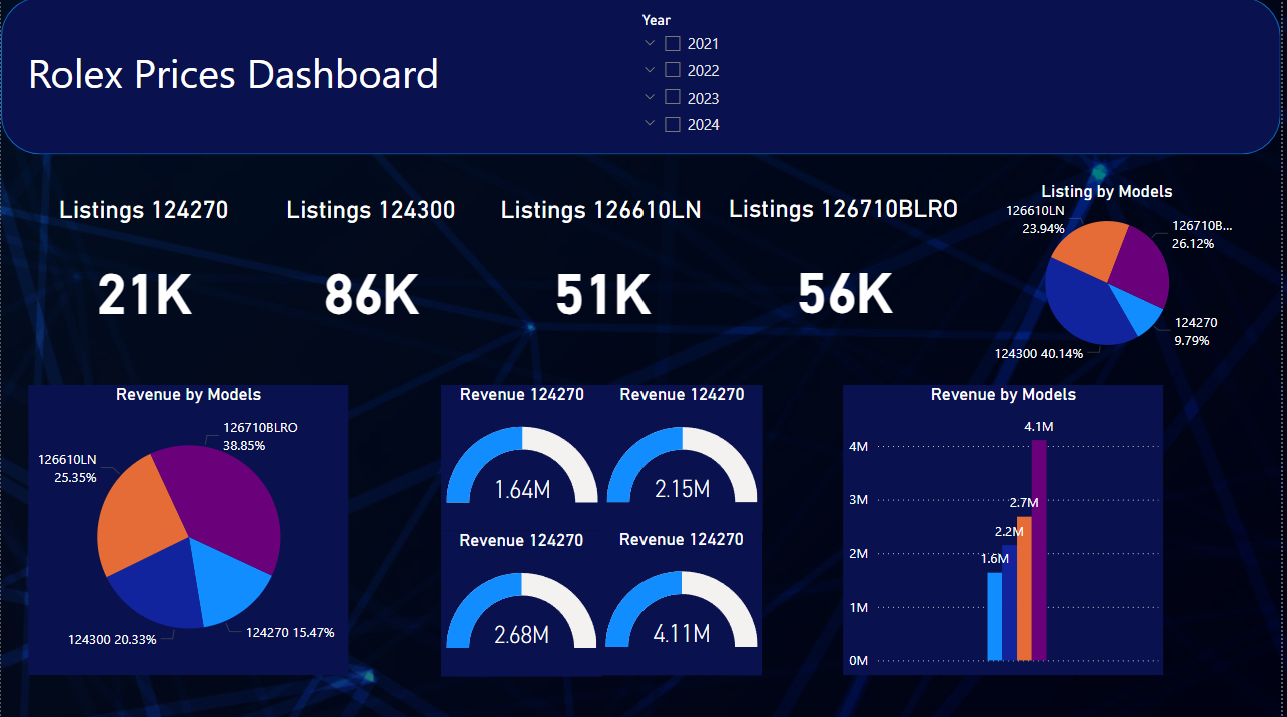

The dashboard page shown, as its layout file describes it:
{"tool":"powerbi","page":{"name":"Dashboard","canvas":[1280,720],"ordinal":0},"visuals":[{"type":"shape","box":[0,0,1279.9,157.7],"z":0},{"type":"slicer","fields":{"Values":["RolexPrices.Date.Variation.Date Hierarchy.Year","RolexPrices.Date.Variation.Date Hierarchy.Quarter","RolexPrices.Date.Variation.Date Hierarchy.Month","RolexPrices.Date.Variation.Date Hierarchy.Day"]},"box":[628.2,9.1,241.1,140.8],"z":1000},{"type":"card","title":"Listings 124270","fields":{"Values":["Sum(RolexPrices.Listings_124270)"]},"box":[27.4,199.4,230.7,160.3],"z":2000},{"type":"card","title":"Listings 124300","fields":{"Values":["Sum(RolexPrices.Listings_124300)"]},"box":[258.1,199.4,224.2,160.3],"z":3000},{"type":"card","title":"Listings 126610LN","fields":{"Values":["Sum(RolexPrices.Listings_126610LN)"]},"box":[482.2,199.4,235.9,160.3],"z":4000},{"type":"card","title":"Listings 126710BLRO","fields":{"Values":["Sum(RolexPrices.Listings_126710BLRO)"]},"box":[718.1,198.1,247.6,160.3],"z":5000},{"type":"pieChart","title":"Revenue by Models","fields":{"Y":["Sum(RolexPrices.Price_124270)","Sum(RolexPrices.Price_124300)","Sum(RolexPrices.Price_126610LN)","Sum(RolexPrices.Price_126710BLRO)"]},"box":[27.4,388.4,320.6,290.6],"z":6000},{"type":"gauge","title":"Revenue 124270","fields":{"Y":["Sum(RolexPrices.Price_124270)"]},"box":[440.5,388.4,161.6,146],"z":7000},{"type":"gauge","title":"Revenue 124270","fields":{"Y":["Sum(RolexPrices.Price_124300)"]},"box":[600.8,388.4,160.3,146],"z":8000},{"type":"gauge","title":"Revenue 124270","fields":{"Y":["Sum(RolexPrices.Price_126610LN)"]},"box":[440.5,534.4,160.3,146],"z":9000},{"type":"gauge","title":"Revenue 124270","fields":{"Y":["Sum(RolexPrices.Price_126710BLRO)"]},"box":[599.5,533.1,161.6,146],"z":10000},{"type":"clusteredColumnChart","title":"Revenue by Models","fields":{"Y":["Sum(RolexPrices.Price_124270)","Sum(RolexPrices.Price_124300)","Sum(RolexPrices.Price_126610LN)","Sum(RolexPrices.Price_126710BLRO)"]},"box":[841.9,388.4,320.6,290.6],"z":10001},{"type":"pieChart","title":"Listing by Models","fields":{"Y":["Sum(RolexPrices.Listings_124270)","Sum(RolexPrices.Listings_124300)","Sum(RolexPrices.Listings_126610LN)","Sum(RolexPrices.Listings_126710BLRO)"]},"box":[969.7,185.1,272.4,189],"z":10002}]}

Visuals, with their boxes in screenshot pixels (x1, y1, x2, y2), scaled from the page's 1280x720 canvas onto the 1287x717 screenshot:
shape: 0 0 1286 157
slicer - RolexPrices.Date.Variation.Date Hierarchy.Year x RolexPrices.Date.Variation.Date Hierarchy.Quarter: 632 9 874 149
"Listings 124270" card: 28 199 260 358
"Listings 124300" card: 260 199 485 358
"Listings 126610LN" card: 485 199 722 358
"Listings 126710BLRO" card: 722 197 971 357
"Revenue by Models" pieChart: 28 387 350 676
"Revenue 124270" gauge: 443 387 605 532
"Revenue 124270" gauge: 604 387 765 532
"Revenue 124270" gauge: 443 532 604 678
"Revenue 124270" gauge: 603 531 765 676
"Revenue by Models" clusteredColumnChart: 847 387 1169 676
"Listing by Models" pieChart: 975 184 1249 373
